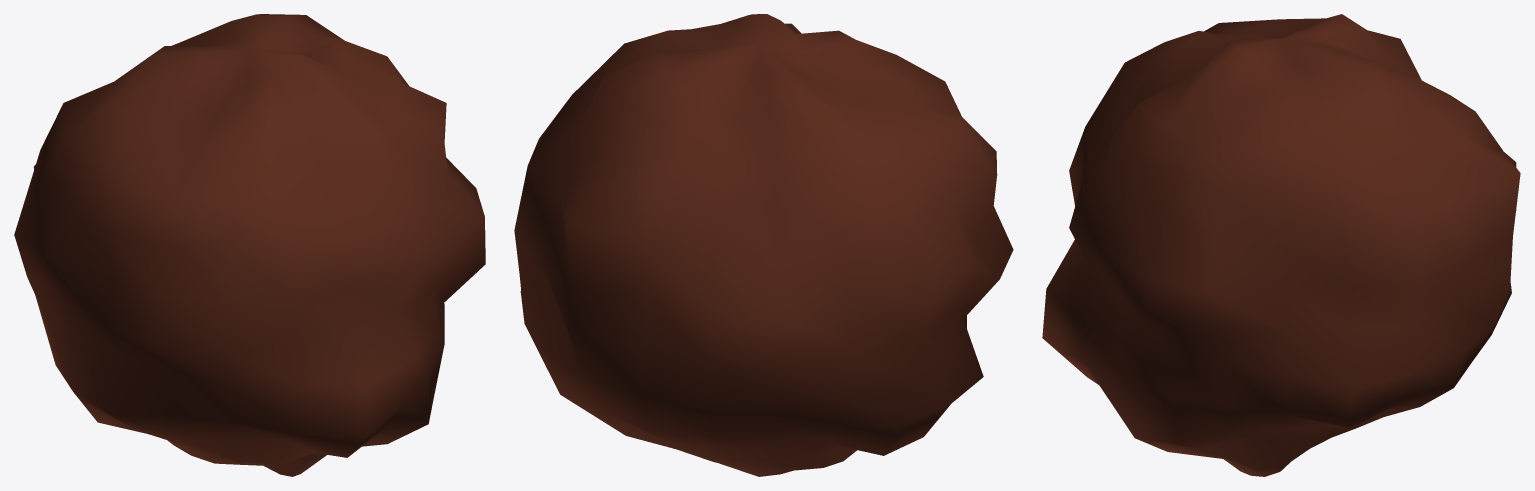
Rendered from Truffle.fbx.
3 renders of one model, left to right at view 1: azimuth 30°, elevation 25°; view 2: azimuth 150°, elevation 25°; view 3: azimuth 270°, elevation 25°, orthographic. The views are drawn at different scales.
Parts seen in each view (by area): view 1: TruffleMesh; view 2: TruffleMesh; view 3: TruffleMesh.
Part boxes in pixels (left/top/right/bottom): TruffleMesh: left=14, top=14, right=485, bottom=476; TruffleMesh: left=514, top=14, right=1013, bottom=476; TruffleMesh: left=1042, top=14, right=1520, bottom=476.
Bounding box in the file's own units: 42.47 × 43.37 × 44.37.
